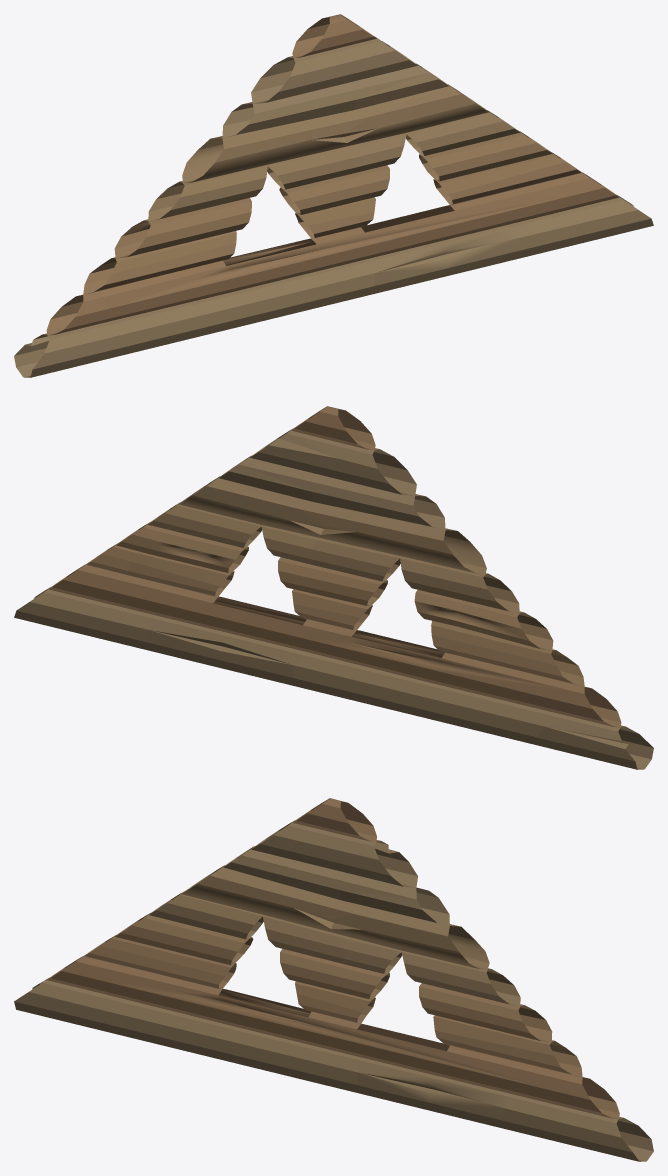
File: rpgpp_ag_roof_end_01_9x4_wall_window_01e.fbx
The picture shows the model from 3 angles, top to bottom: view 1: azimuth 30°, elevation 25°; view 2: azimuth 150°, elevation 25°; view 3: azimuth 330°, elevation 25°; orthographic projection.
Visible parts, largest first — view 1: rpgpp_ag_roof_end_01_9x4_wall_window_01e; view 2: rpgpp_ag_roof_end_01_9x4_wall_window_01e; view 3: rpgpp_ag_roof_end_01_9x4_wall_window_01e.
Part boxes in pixels (x1,y1,x2,y2): rpgpp_ag_roof_end_01_9x4_wall_window_01e: [14, 14, 653, 377]; rpgpp_ag_roof_end_01_9x4_wall_window_01e: [14, 406, 653, 769]; rpgpp_ag_roof_end_01_9x4_wall_window_01e: [14, 798, 653, 1161].
Size of the model in its own units: 9 by 3.94 by 0.4626.
